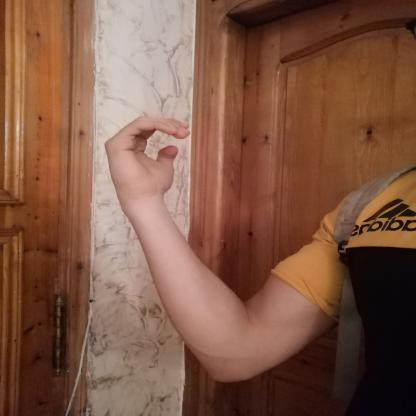JEEM: (93, 107, 203, 209)
